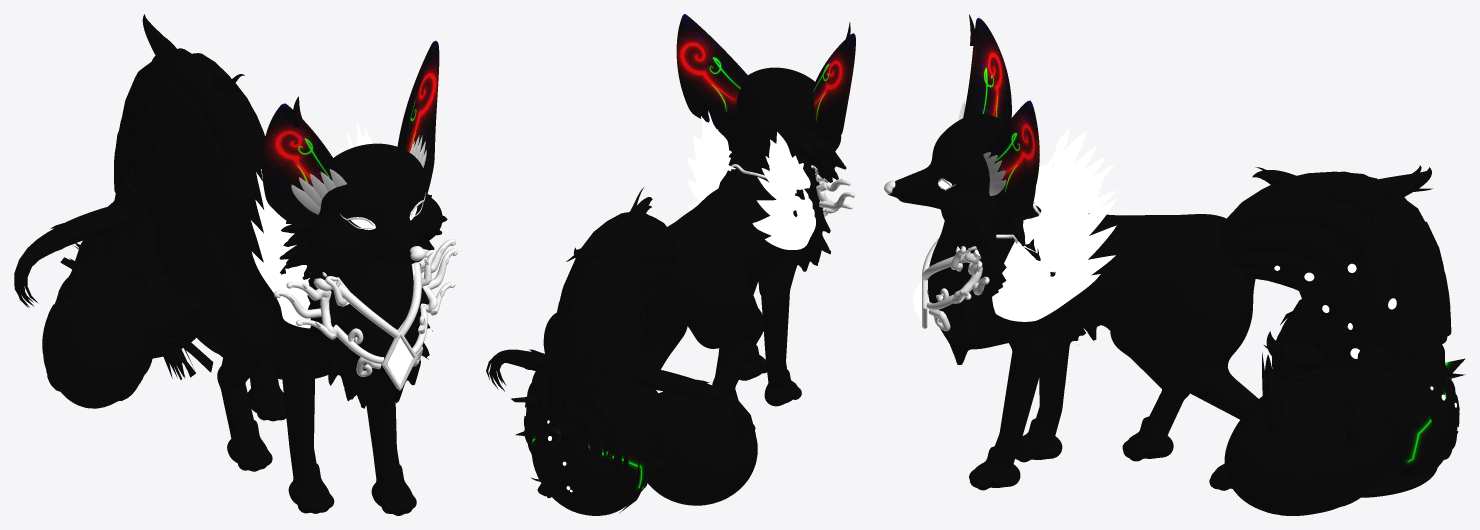
File: lumina_warden.glb
The picture shows the model from 3 angles, left to right: view 1: azimuth 30°, elevation 25°; view 2: azimuth 150°, elevation 25°; view 3: azimuth 270°, elevation 25°; orthographic projection. The views are drawn at different scales.
Visible parts, largest first — view 1: lumina_warden; view 2: lumina_warden; view 3: lumina_warden.
Boxes of the visible parts, bbox=[...] form: lumina_warden: bbox=[14, 14, 457, 515]; lumina_warden: bbox=[486, 14, 855, 515]; lumina_warden: bbox=[884, 14, 1465, 515].
Bounding box in the file's own units: 0.7484 × 1.03 × 1.26.
Materials: 14 (5 with a texture image).
